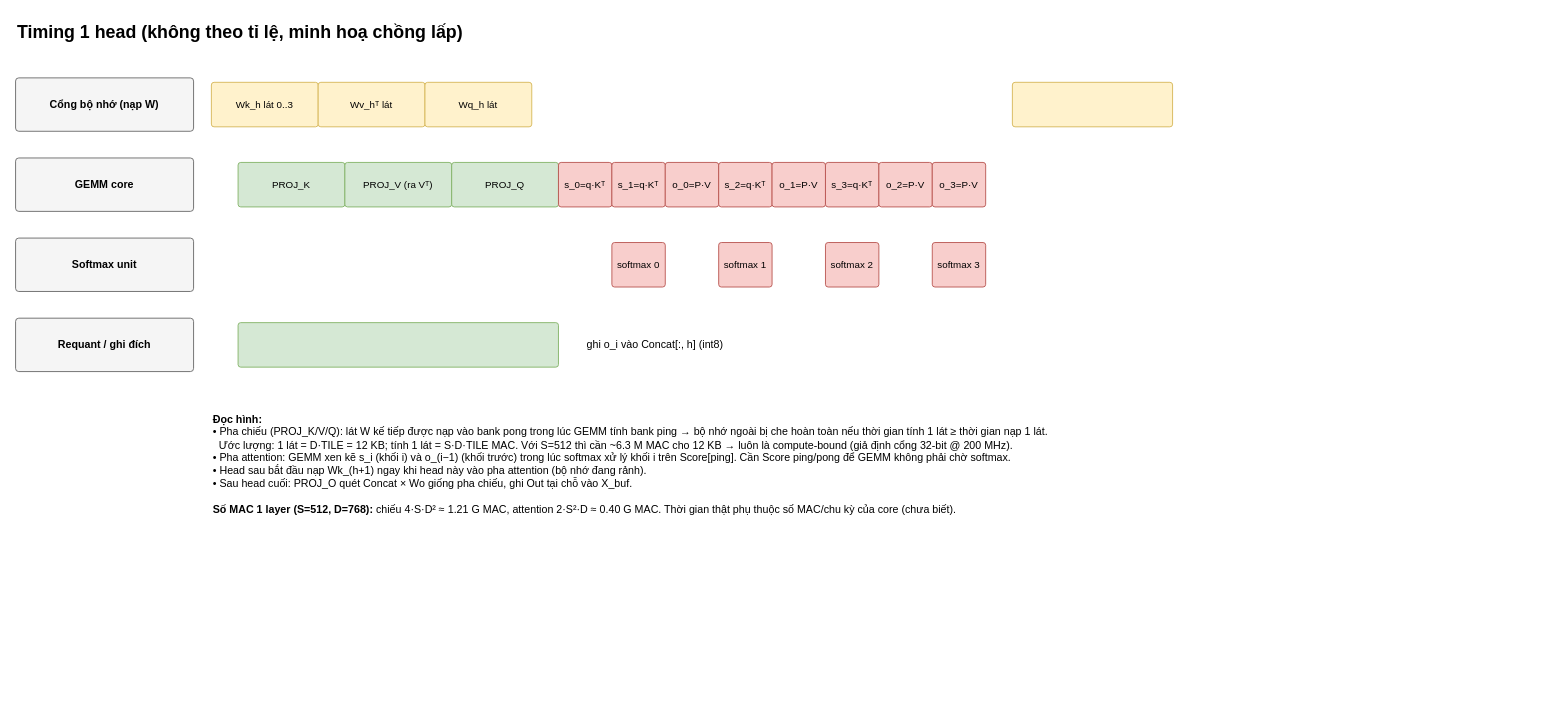
Some shapes in this 1562 by 707 pixel diagram are drawn without their labels. The box of each missing label's shape, as (x1, y1, x2, y2) in pixels:
ghi K_h, V_hᵀ, Q_h (sau mỗi tile): (237, 322, 558, 367)
Wk_(h+1) cho head sau: (1011, 81, 1173, 127)
